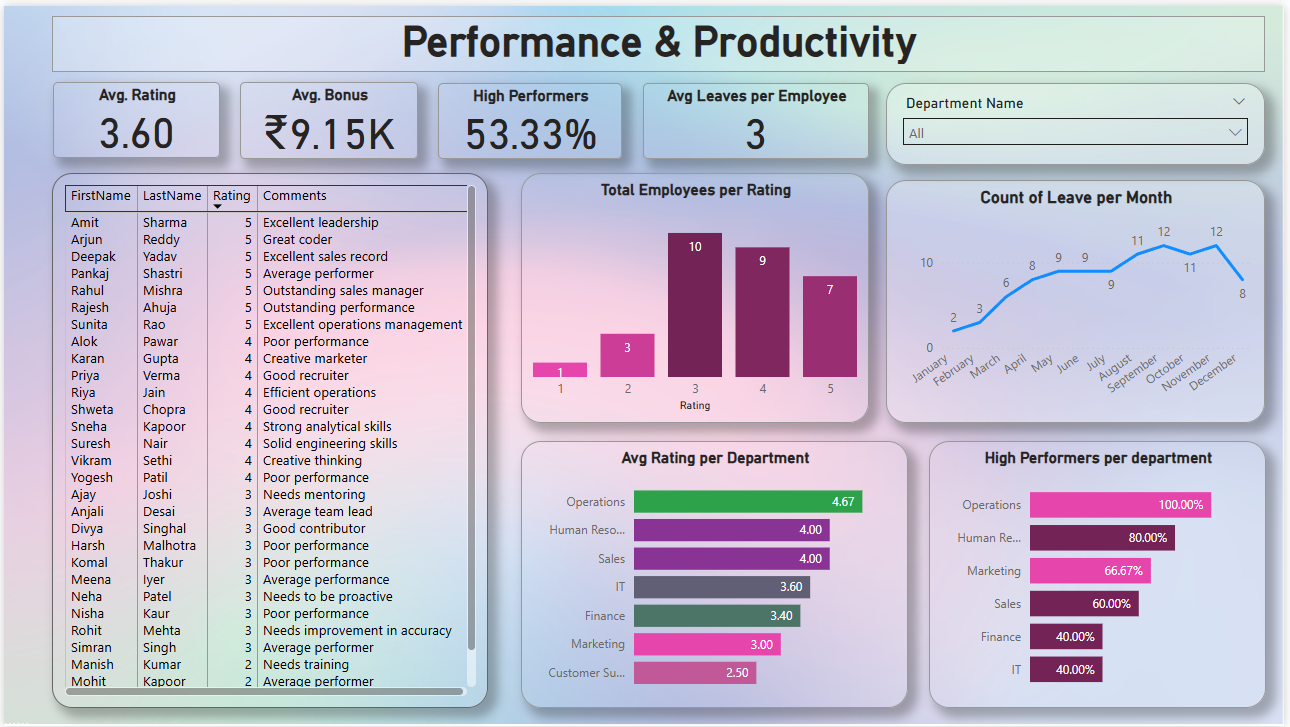

This screenshot's page, from the dashboard's own definition file:
{"tool":"powerbi","page":{"name":"Performance","canvas":[1280,720],"ordinal":2},"visuals":[{"type":"card","title":"Performance & Productivity","fields":{"Values":["Employees.FirstName"]},"box":[48.5,9.9,1212.9,56.6],"z":0},{"type":"card","title":"Avg. Rating","fields":{"Values":["PerformanceReviews.Rating"]},"box":[49.4,76.3,167,75.4],"z":1000},{"type":"card","title":"Avg. Bonus","fields":{"Values":["Salaries.Bonus"]},"box":[236.1,76.3,177.8,76.3],"z":2000},{"type":"card","title":"High Performers","fields":{"Values":["PerformanceReviews.HighPerformers%"]},"box":[433.6,77.2,184,75.4],"z":3000},{"type":"tableEx","fields":{"Values":["Employees.FirstName","Employees.LastName","PerformanceReviews.Rating","PerformanceReviews.Comments"]},"box":[48.5,167,435.4,535.1],"z":4000},{"type":"card","title":"Avg Leaves per Employee","fields":{"Values":["LeaveRecords.Avg Leaves per Employee"]},"box":[639.2,77.2,225.3,75.4],"z":5000},{"type":"clusteredColumnChart","title":" Total Employees per Rating","fields":{"Category":["PerformanceReviews.Rating"],"Y":["PerformanceReviews.EmpID"]},"box":[517.1,167,347.4,250.5],"z":6000},{"type":"clusteredBarChart","title":"Avg Rating per Department","fields":{"Y":["PerformanceReviews.Rating"],"Category":["Departments.DeptName"]},"box":[517.3,434.5,386.4,267.3],"z":7000},{"type":"lineChart","title":"Count of Leave per Month","fields":{"Y":["LeaveRecords.LeaveID"],"Category":["LeaveRecords.LeaveDate.Variation.Date Hierarchy.Month"]},"box":[881.6,174.2,379.8,243.3],"z":8000},{"type":"clusteredBarChart","title":"High Performers per department","fields":{"Category":["JobRoles.DeptName"],"Y":["PerformanceReviews.DeptHighPerformer%"]},"box":[924.5,434.5,337.3,267.3],"z":9000},{"type":"slicer","title":"Gender  Diversity across departments","fields":{"Values":["Departments.DeptName"]},"box":[881.6,77.2,379.8,81.7],"z":10000}]}

Visuals, with their boxes in screenshot pixels (x1, y1, x2, y2), scaled from the page's 1280x720 canvas onto the 1290x727 screenshot:
"Performance & Productivity" card: 49/10/1271/67
"Avg. Rating" card: 50/77/218/153
"Avg. Bonus" card: 238/77/417/154
"High Performers" card: 437/78/622/154
tableEx - Employees.FirstName x Employees.LastName: 49/169/488/709
"Avg Leaves per Employee" card: 644/78/871/154
" Total Employees per Rating" clusteredColumnChart: 521/169/871/422
"Avg Rating per Department" clusteredBarChart: 521/439/911/709
"Count of Leave per Month" lineChart: 888/176/1271/422
"High Performers per department" clusteredBarChart: 932/439/1272/709
"Gender  Diversity across departments" slicer: 888/78/1271/160
